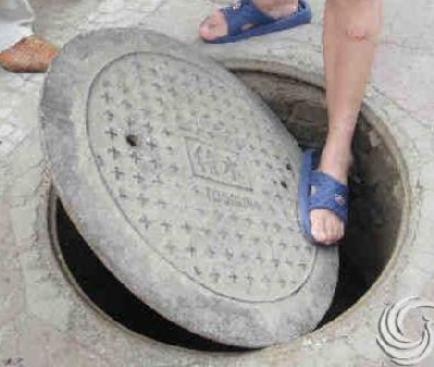wellcover: (22, 21, 414, 356)
